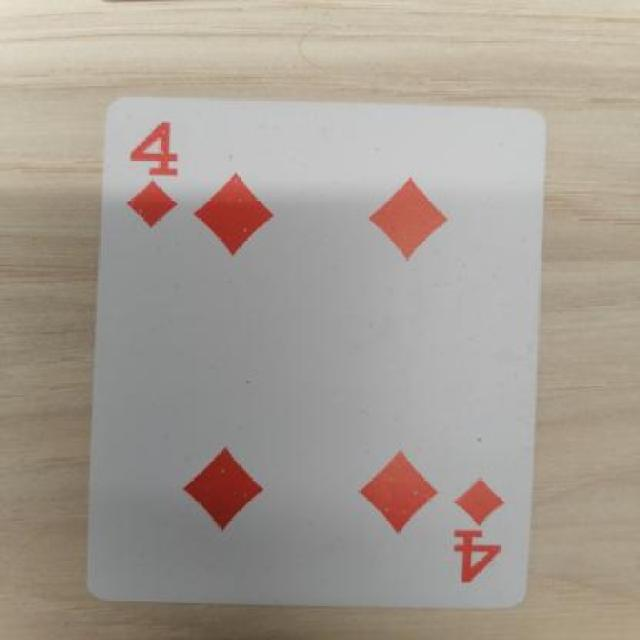4D: (113, 114, 204, 240), (447, 464, 525, 605)
